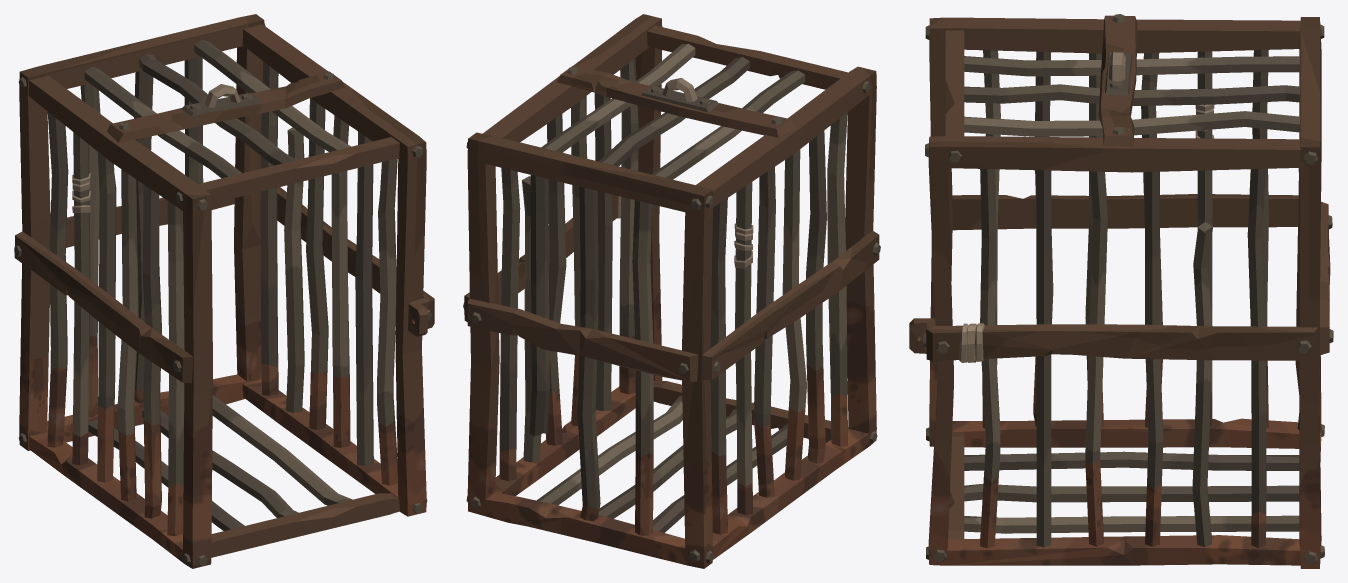
The model's file is SM_Prop_Cage_01.obj.
The picture shows the model from 3 angles, left to right: view 1: azimuth 30°, elevation 25°; view 2: azimuth 150°, elevation 25°; view 3: azimuth 270°, elevation 25°; orthographic projection. The views are drawn at different scales.
Parts seen in each view (by area): view 1: SM_Prop_Cage_01_0; view 2: SM_Prop_Cage_01_0; view 3: SM_Prop_Cage_01_0.
Boxes of the visible parts, x1=… form: SM_Prop_Cage_01_0: x1=14, y1=14, x2=434, y2=568; SM_Prop_Cage_01_0: x1=463, y1=14, x2=880, y2=568; SM_Prop_Cage_01_0: x1=909, y1=14, x2=1333, y2=568.
Size of the model in its own units: 1.53 by 2.27 by 1.94.
1 material, 1 textured.
